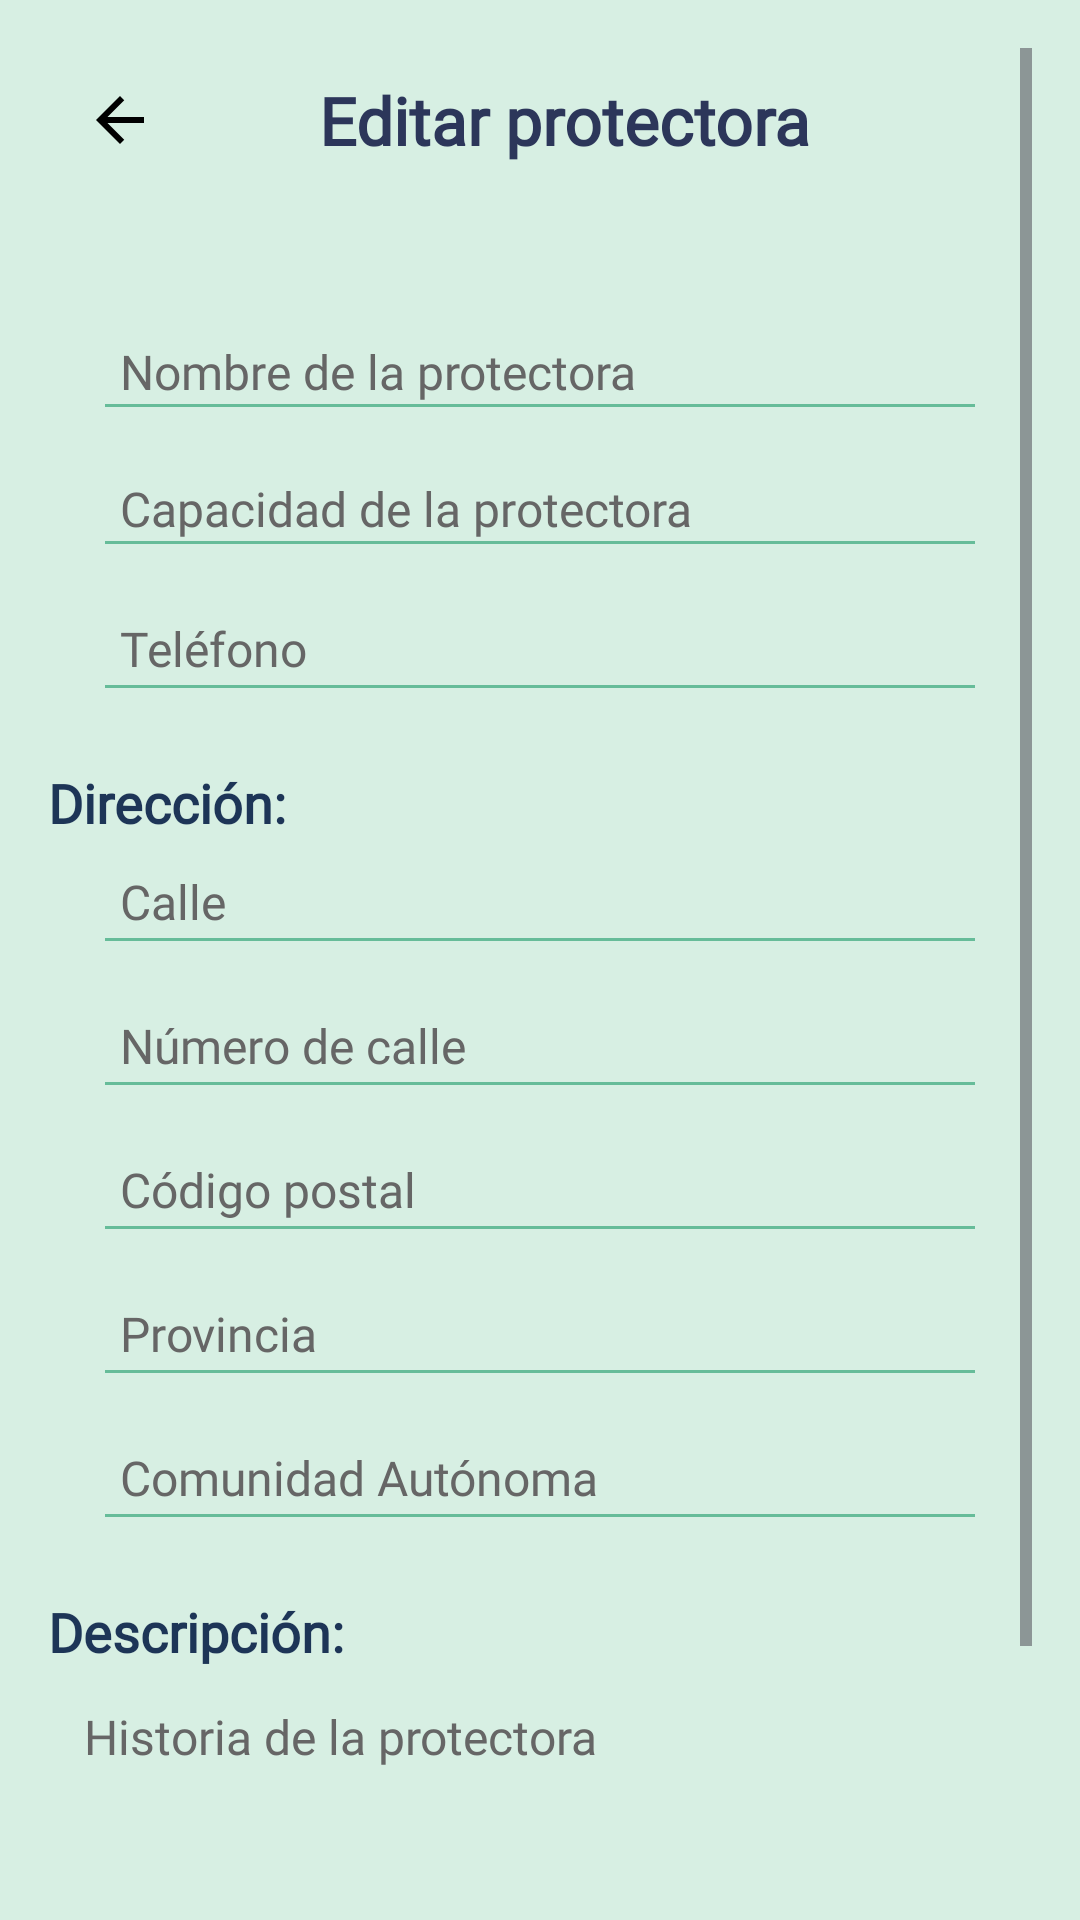

Icon click points for this 1080 x 1920 phone screenshot, format point (x, y):
Volver: point (120, 120)
